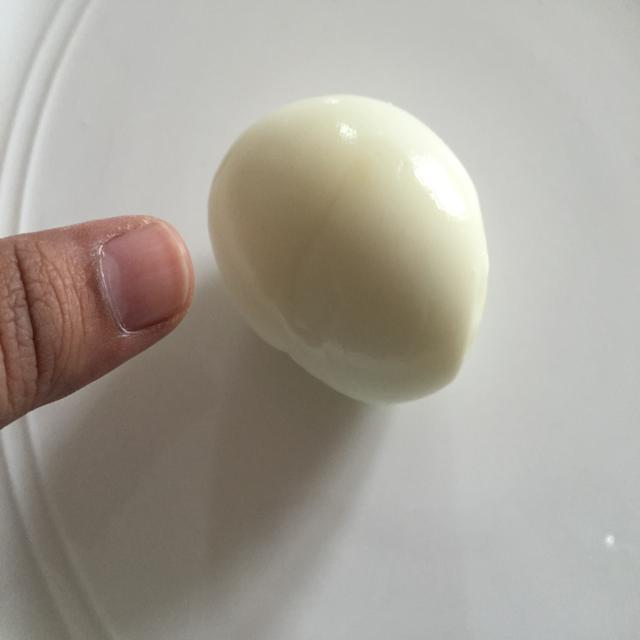Egg: (198, 87, 498, 424)
Finger: (2, 205, 206, 444)
